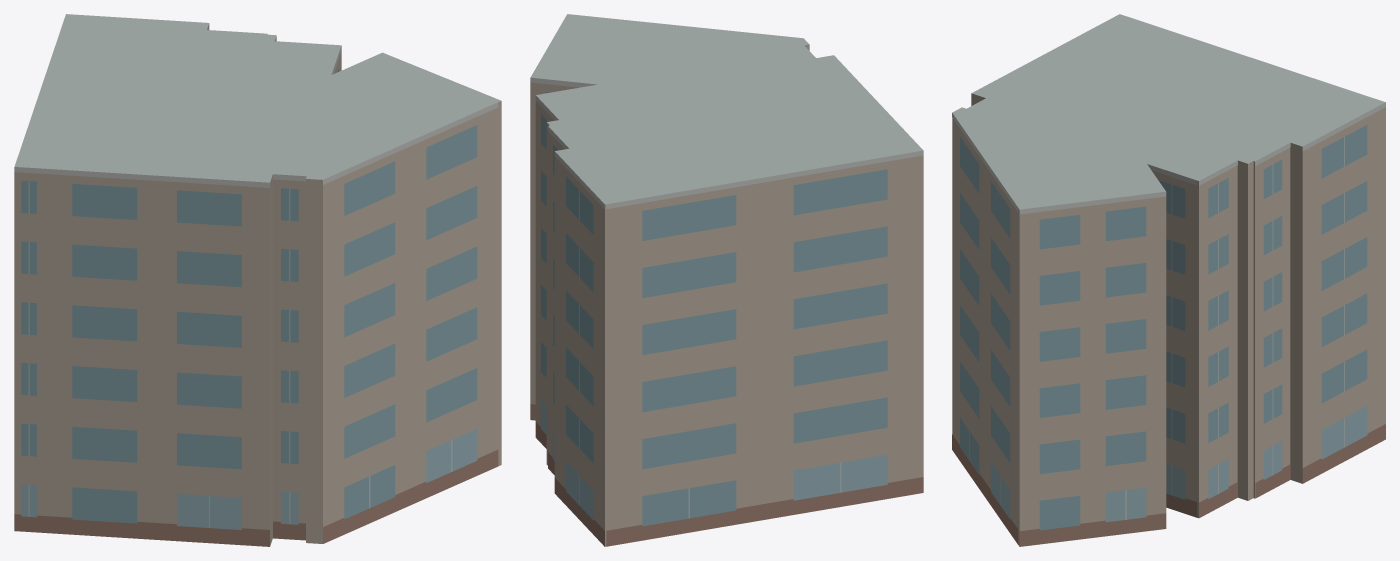
File: survey-upis-32737297.glb
The picture shows the model from 3 angles, left to right: view 1: azimuth 30°, elevation 25°; view 2: azimuth 150°, elevation 25°; view 3: azimuth 270°, elevation 25°; orthographic projection. The views are drawn at different scales.
Parts seen in each view (by area): view 1: survey-upis-32737297.tmp; view 2: survey-upis-32737297.tmp; view 3: survey-upis-32737297.tmp.
Part boxes in pixels (x1=…): survey-upis-32737297.tmp: x1=14, y1=14, x2=501, y2=546; survey-upis-32737297.tmp: x1=530, y1=14, x2=923, y2=546; survey-upis-32737297.tmp: x1=952, y1=14, x2=1385, y2=546.
Size of the model in its own units: 21.23 by 17.05 by 19.88.
